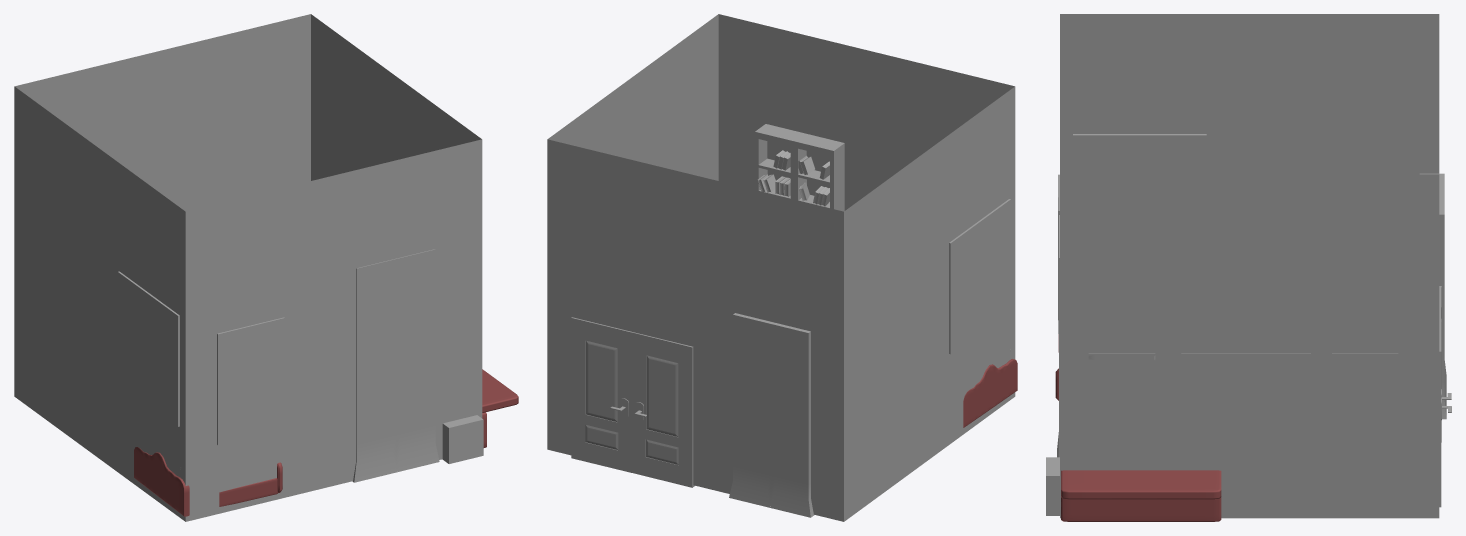
The model's file is buttler for uv mapping.fbx.
3 renders of one model, left to right at view 1: azimuth 30°, elevation 25°; view 2: azimuth 150°, elevation 25°; view 3: azimuth 270°, elevation 25°, orthographic. The views are drawn at different scales.
Visible parts, largest first — view 1: pCube1, BOOKSHELF1, pCube17, pCube16, thing_for_head_of_bed, pCube27, bar_table_thingy, Matrass_uv_mapping; view 2: pCube1, BOOKSHELF, door1, door:Mesh, pCube16, BOOKSHELF1, thing_for_head_of_bed; view 3: pCube1, bar_table_thingy, pCube16, pCube22 (×3), BOOKSHELF, pCube27, door:Mesh.
Boxes of the visible parts, x1,y1,x2,y2 form: pCube1: (14,14,482,521); BOOKSHELF1: (352,249,439,482); pCube17: (217,317,284,445); pCube16: (118,271,179,426); thing_for_head_of_bed: (134,447,189,516); pCube27: (442,415,483,463); bar_table_thingy: (482,369,518,447); Matrass_uv_mapping: (219,478,277,506); pCube1: (547,14,1015,521); BOOKSHELF: (729,313,814,517); door1: (632,332,694,487); door:Mesh: (571,317,632,472); pCube16: (949,199,1010,354); BOOKSHELF1: (755,124,844,211); thing_for_head_of_bed: (963,359,1017,427); pCube1: (1060,14,1439,518); bar_table_thingy: (1061,470,1221,521); pCube16: (1073,134,1206,174); pCube22 (×3): (1088,353,1398,370); BOOKSHELF: (1420,173,1446,419); pCube27: (1046,457,1059,515); door:Mesh: (1439,318,1441,507).
Bounding box in the file's own units: 15.31 × 13.54 × 14.38.
